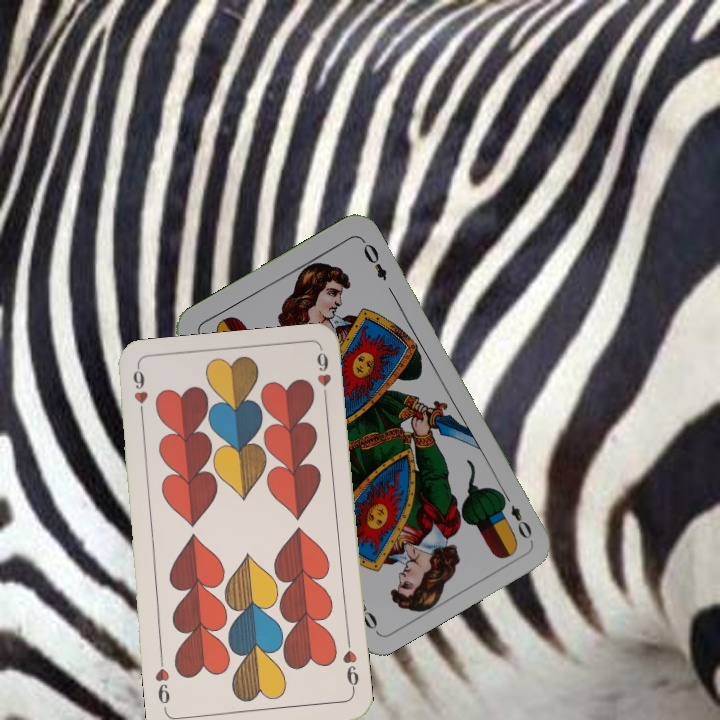EO: (497, 488, 535, 542)
H9: (129, 364, 150, 424), (339, 646, 362, 695)
